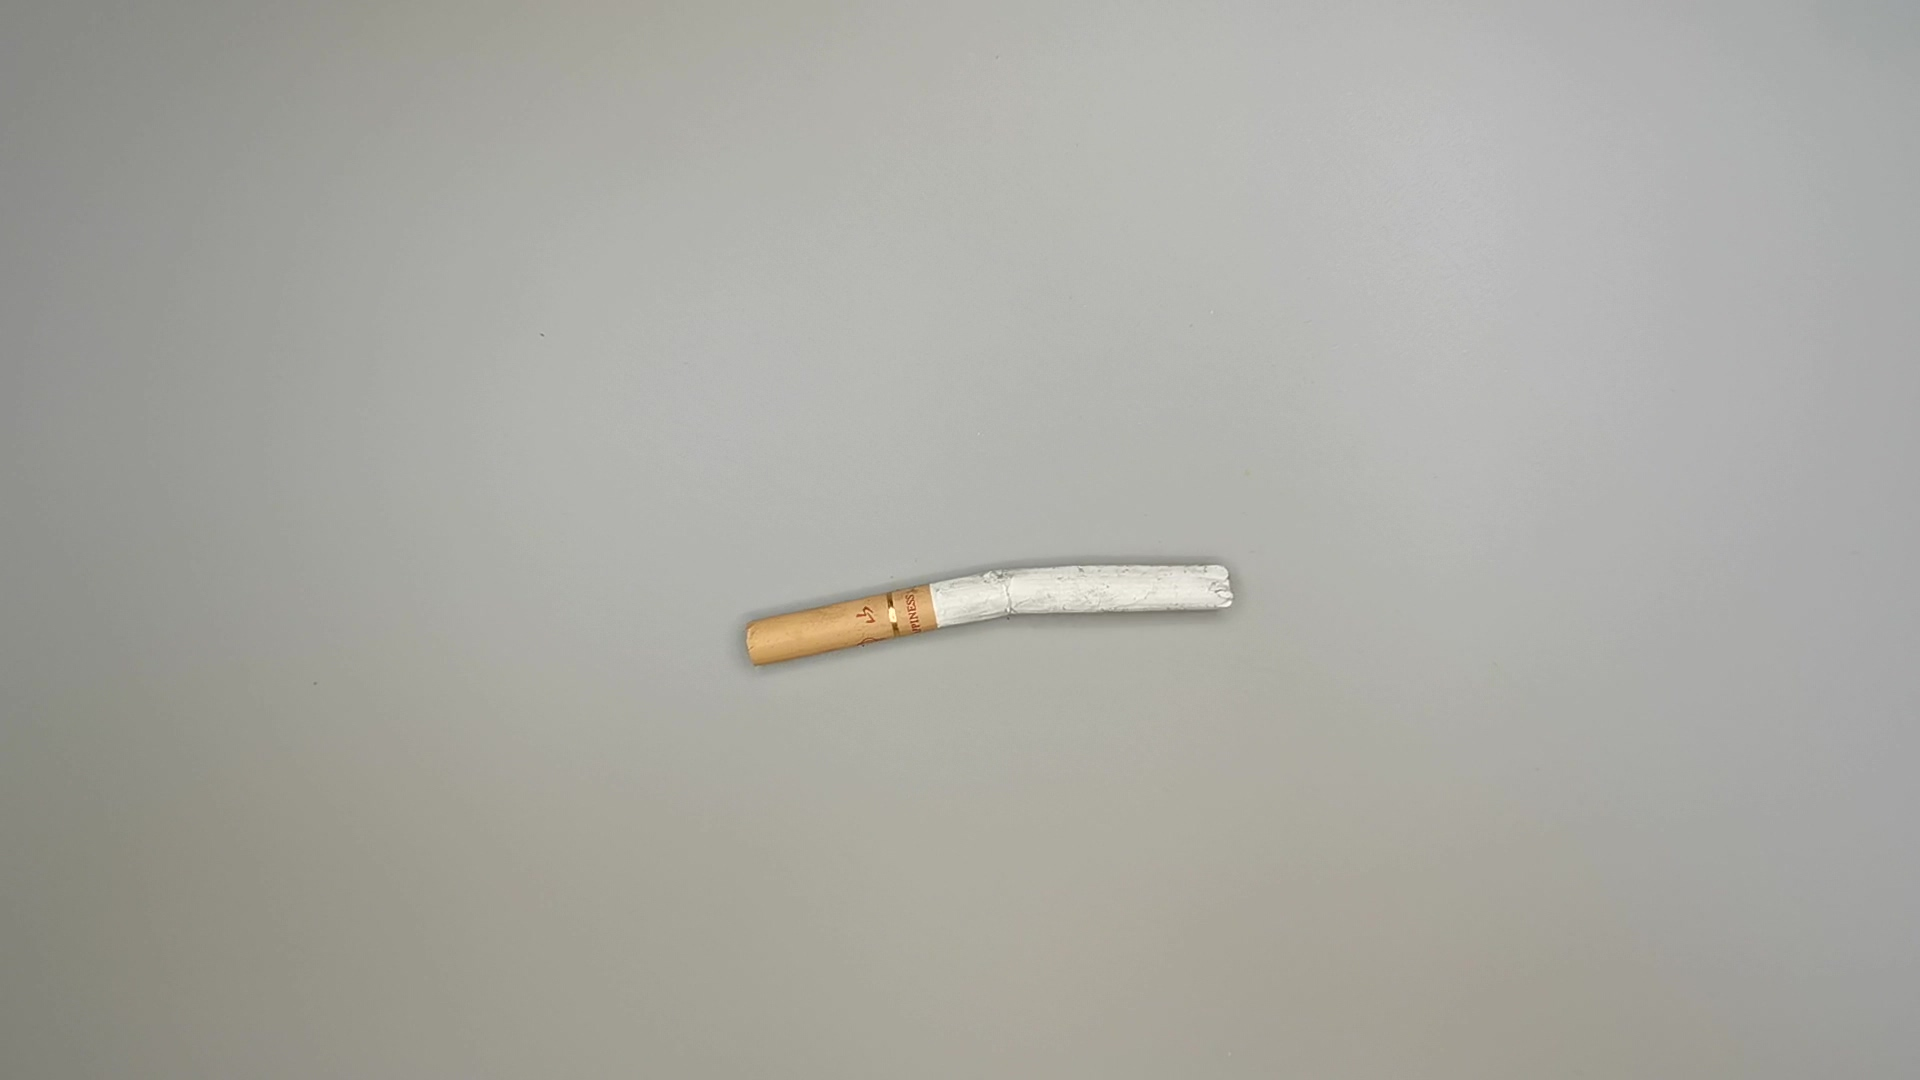cigarette: (733, 553, 1245, 682)
